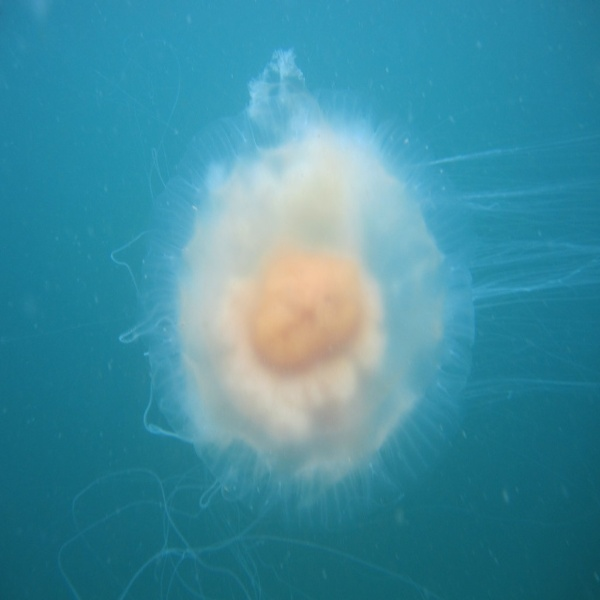Jellyfish: (55, 41, 599, 599)
